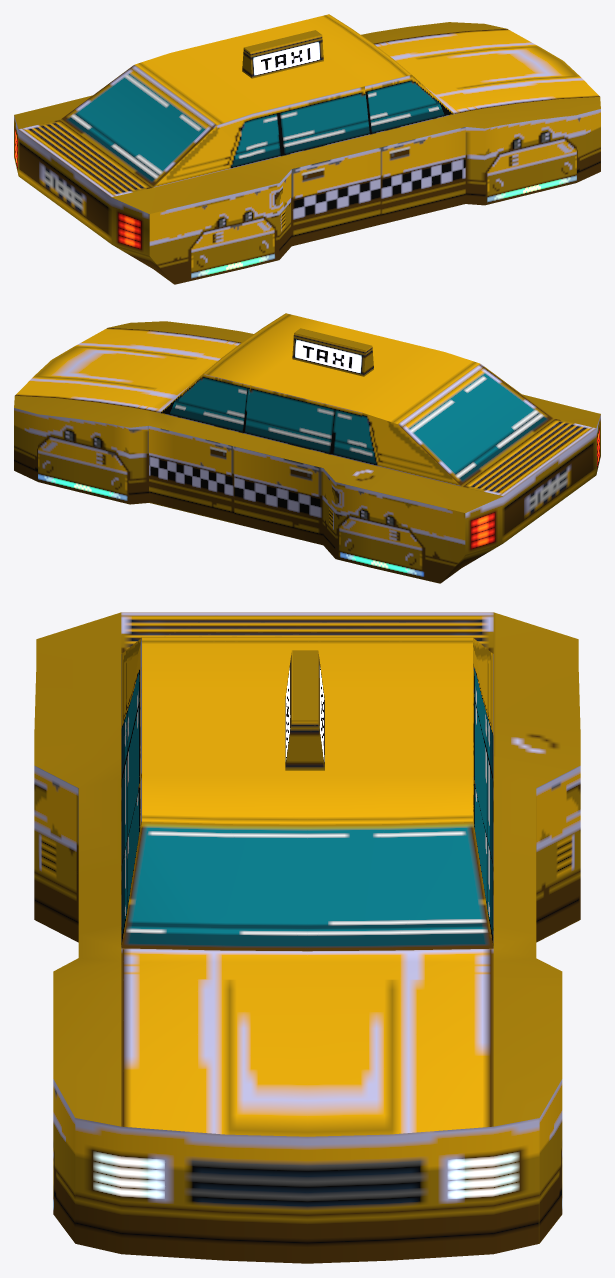
The model's file is taxi.FBX.
The picture shows the model from 3 angles, top to bottom: view 1: azimuth 30°, elevation 25°; view 2: azimuth 150°, elevation 25°; view 3: azimuth 270°, elevation 25°; orthographic projection. The views are drawn at different scales.
Visible parts, largest first — view 1: taxi; view 2: taxi; view 3: taxi.
Part boxes in pixels (<box>): taxi: <box>14,14,600,284</box>; taxi: <box>14,313,600,583</box>; taxi: <box>34,612,580,1263</box>.
Bounding box in the file's own units: 61.29 × 17.87 × 29.09.
Materials: 1 (1 with a texture image).
